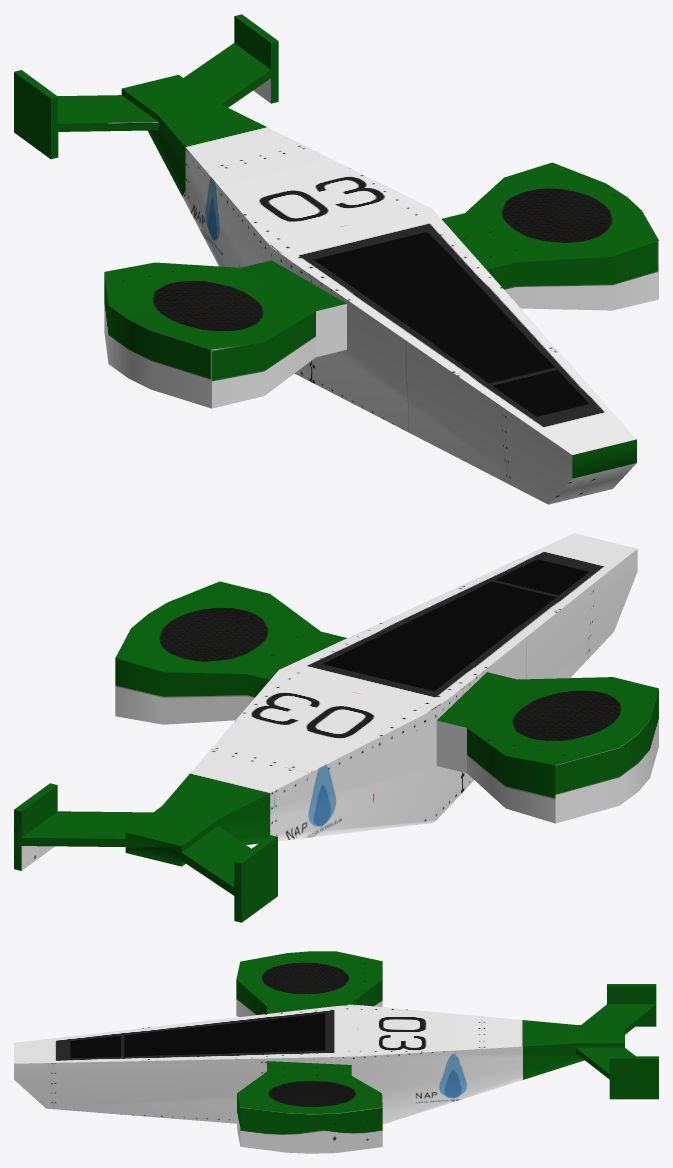
The model's file is player03Ship01.fbx.
The picture shows the model from 3 angles, top to bottom: view 1: azimuth 30°, elevation 25°; view 2: azimuth 150°, elevation 25°; view 3: azimuth 270°, elevation 25°; orthographic projection. The views are drawn at different scales.
Visible parts, largest first — view 1: pCube1; view 2: pCube1; view 3: pCube1.
Part boxes in pixels (x1,y1,x2,y2): pCube1: (14,14,658,504); pCube1: (14,533,658,922); pCube1: (14,951,658,1153).
Bounding box in the file's own units: 13.77 × 3.43 × 23.06.
Materials: 1 (1 with a texture image).
